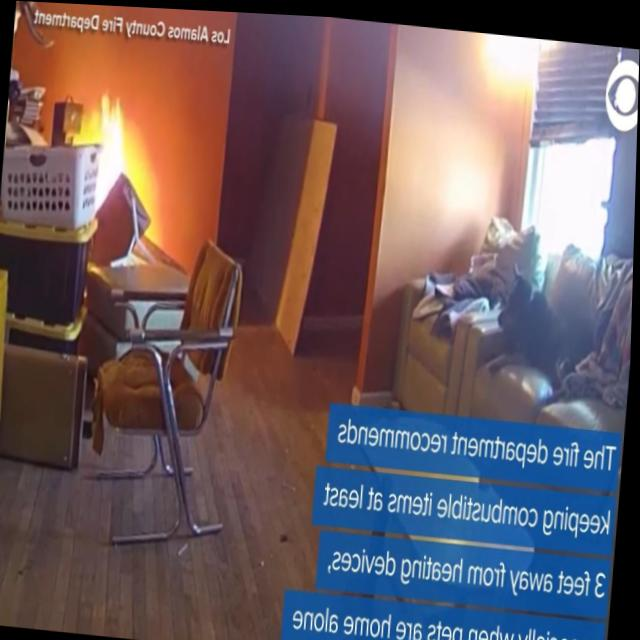fire: (69, 87, 131, 220)
